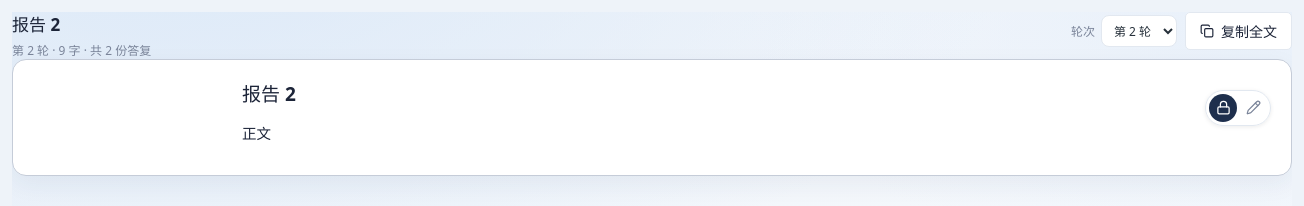
Test case: report reading › opens the latest answer and resets reading position when changing rounds
Select "第 1 轮" in the dropdown named "选择报告轮次" at (1139, 31), box [1101,15,1177,47]
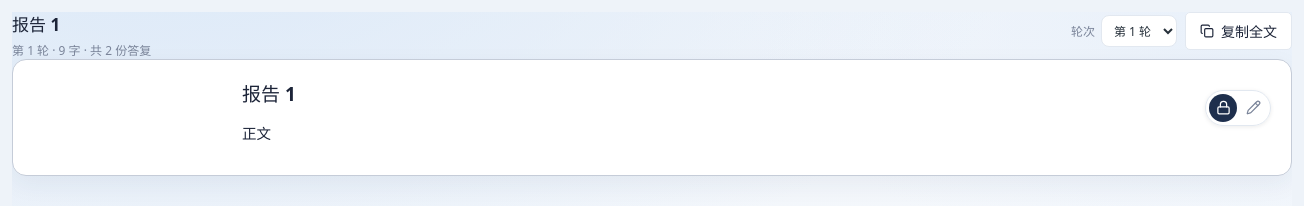
Expected: the element "报告 1" is shown, [242,81,296,107]
